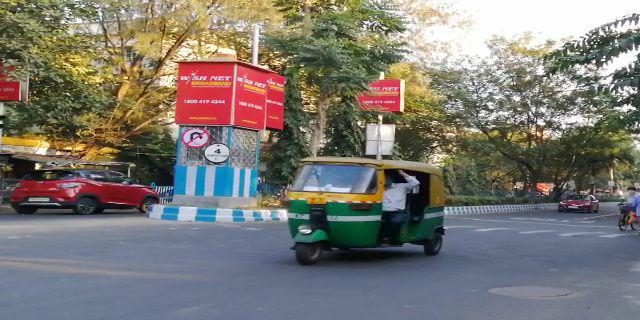Autorickshaw: (284, 154, 447, 261)
Car: (10, 163, 161, 217), (555, 188, 600, 216)
Cycle: (616, 179, 639, 236)
